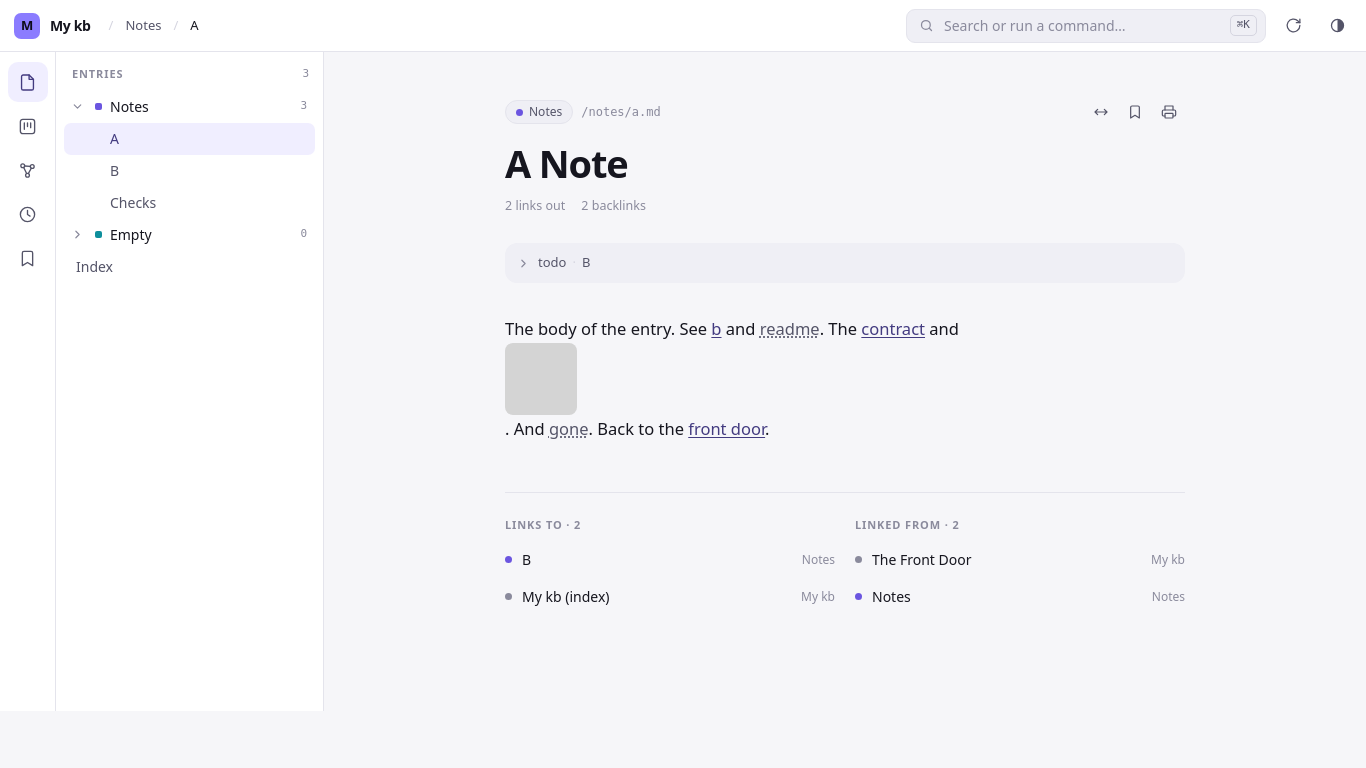
Test case: a saved entry names itself, keeps its place, and comes off when you say
This screenshot has width=1366, height=768.
What coordinates should you click on to do the following:
click the button named "Save to read later"
I would click on:
 (1135, 112)
Its box is top-left (1119, 96), bottom-right (1151, 128).
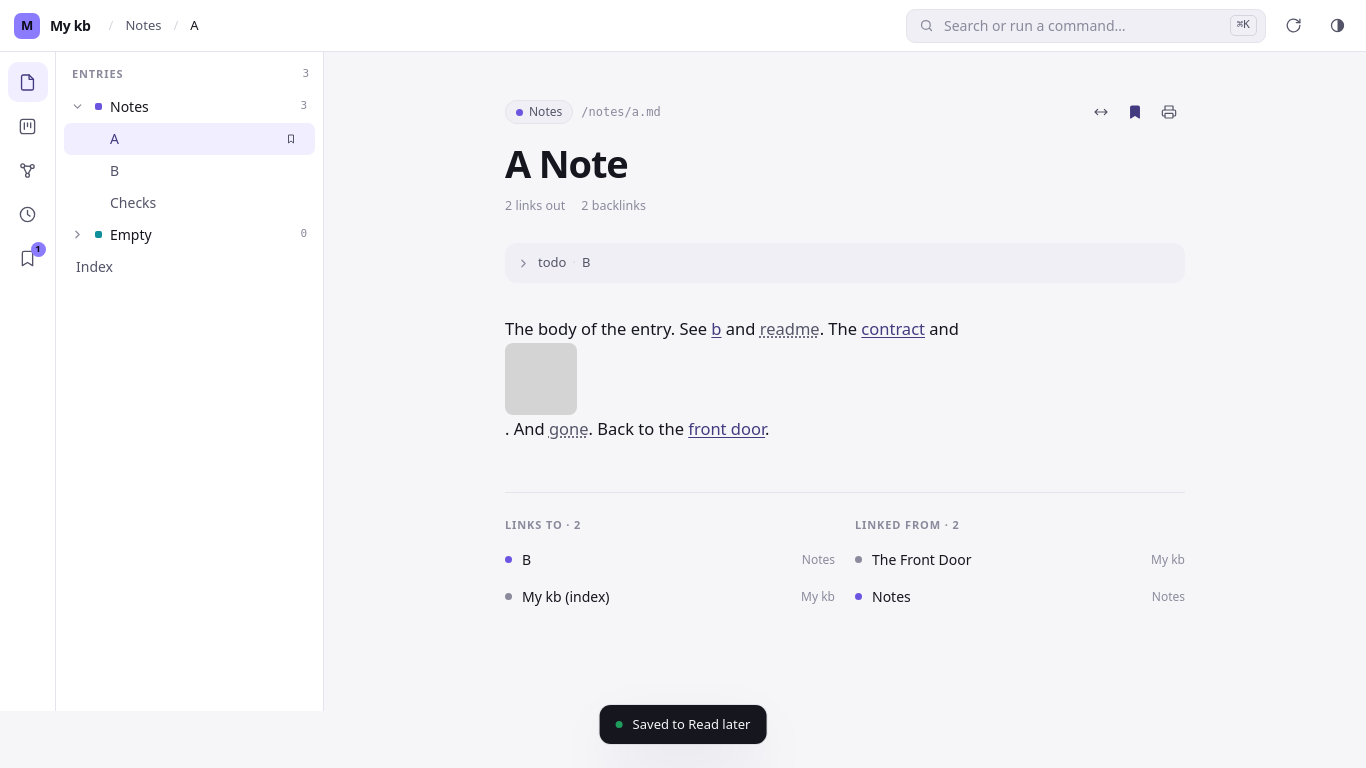
What coordinates should you click on to do the following:
click the button "1"
I would click on:
 (28, 258)
Its box is top-left (8, 238), bottom-right (48, 278).
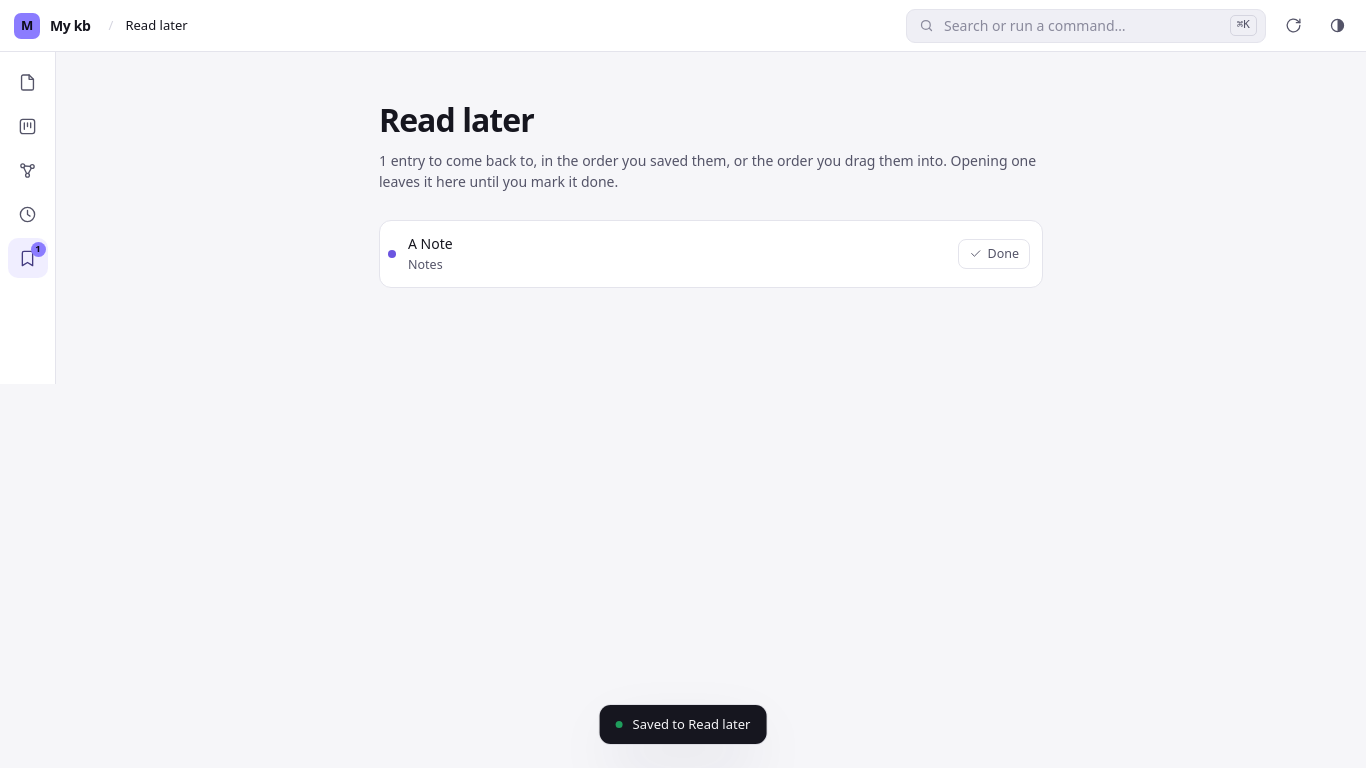
Check: the link "A Note Notes" is shown, box top-left (408, 234), bottom-right (453, 273)
What coordinates should you click on to do the following:
click the button "Done"
I would click on:
 (994, 254)
Its box is top-left (958, 239), bottom-right (1030, 269).
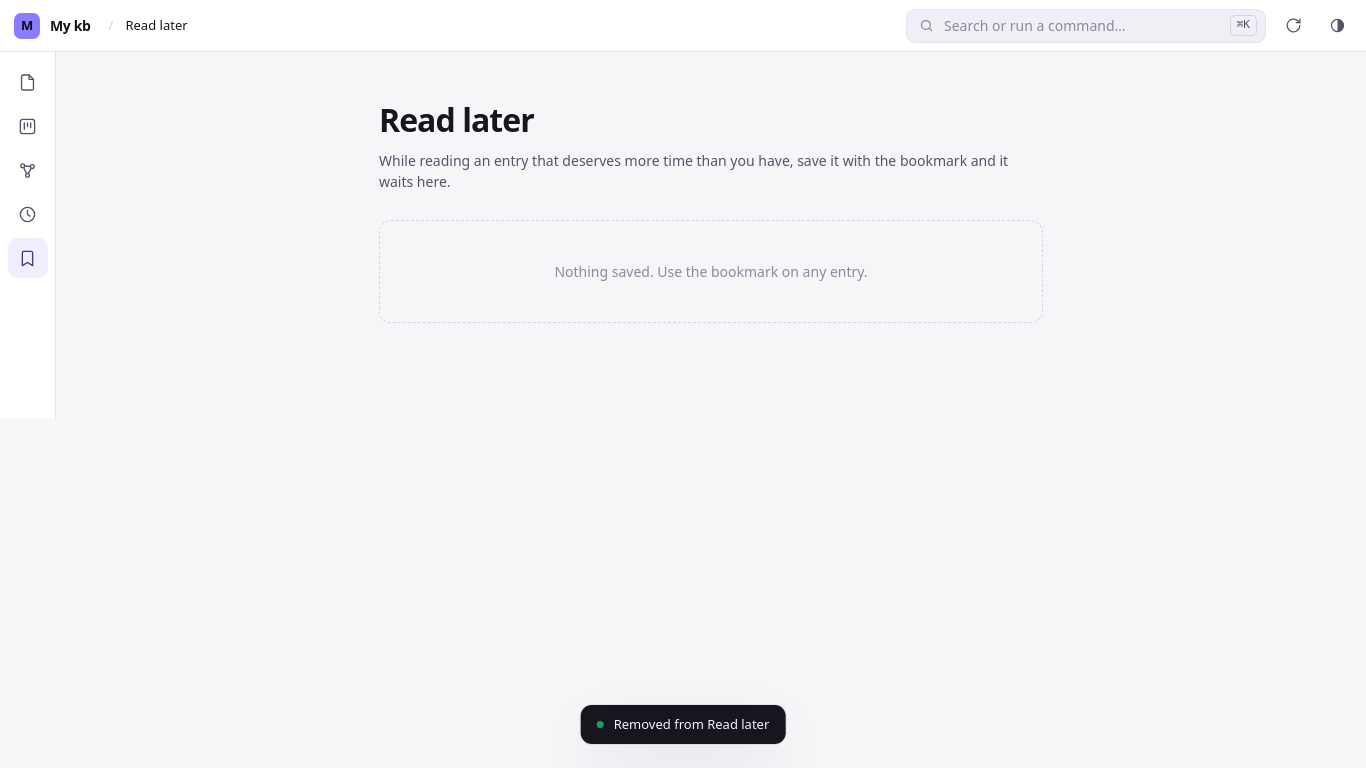
Check: the text "Nothing saved." is shown, box top-left (554, 262), bottom-right (868, 281)
